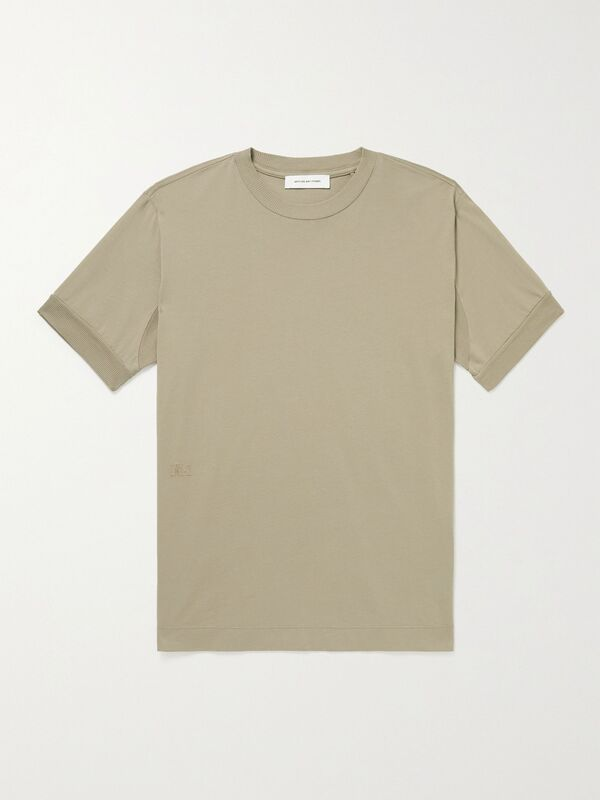tshirt: (33, 140, 566, 660)
